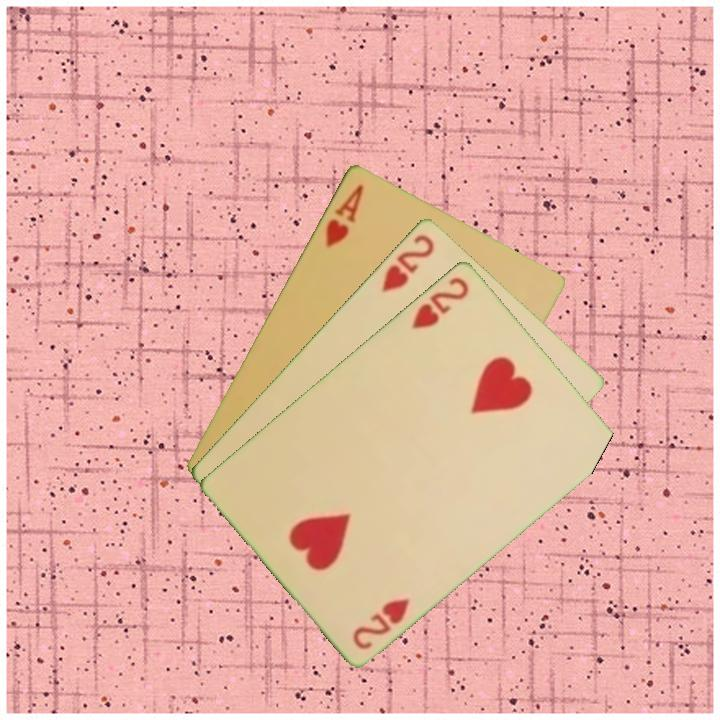2h: (377, 230, 438, 295), (407, 273, 472, 332), (349, 594, 413, 652)
Ah: (321, 180, 367, 250)
